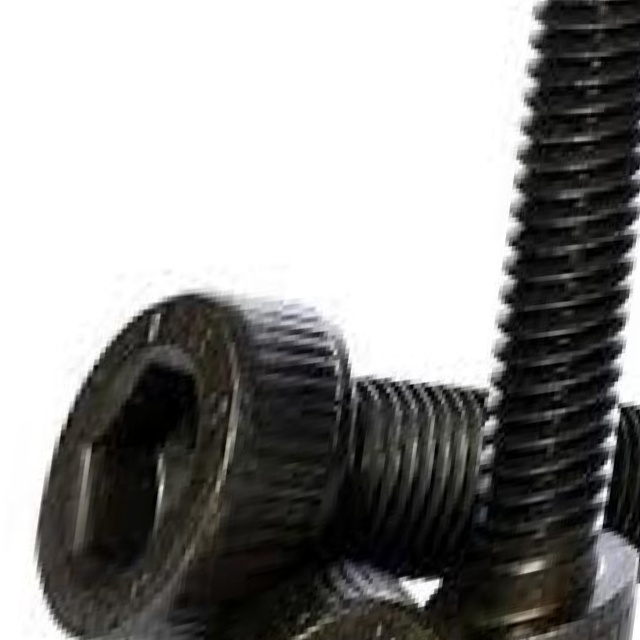allen: (15, 282, 266, 640), (129, 538, 472, 640)
